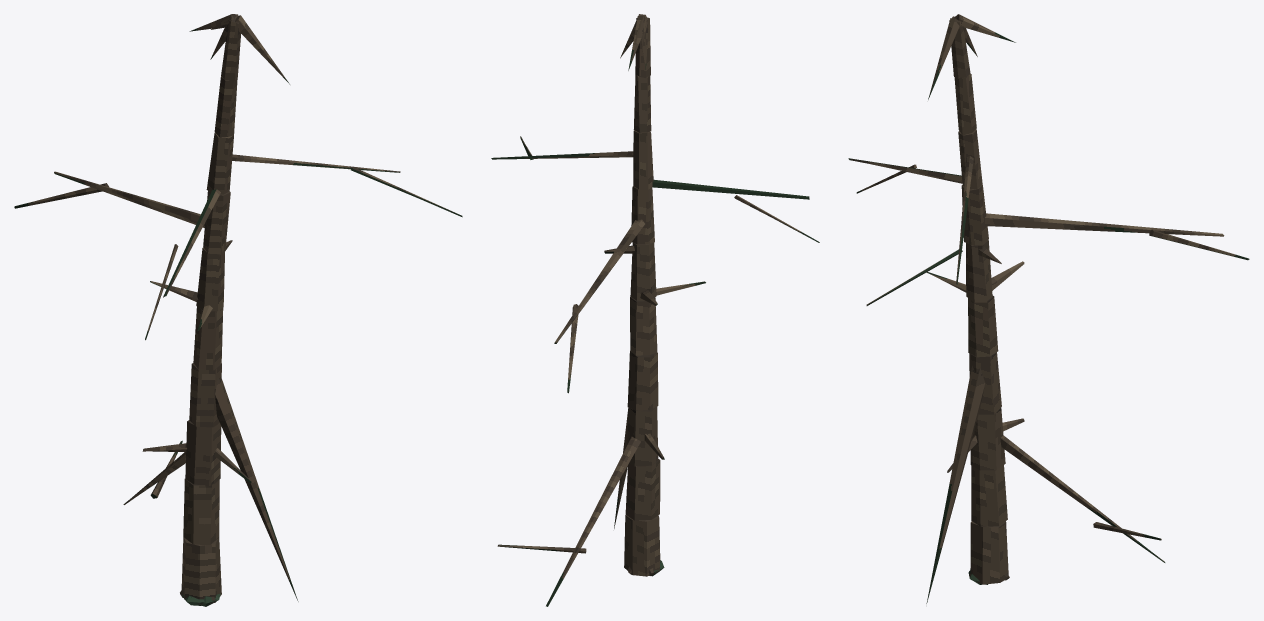
The model's file is snag_02.glb.
3 views of the same model, side by side, from view 1: azimuth 30°, elevation 25°; view 2: azimuth 150°, elevation 25°; view 3: azimuth 270°, elevation 25° (orthographic). The views are drawn at different scales.
Parts seen in each view (by area): view 1: snag_02; view 2: snag_02; view 3: snag_02.
Boxes of the visible parts, x1=… form: snag_02: x1=14, y1=14, x2=462, y2=606; snag_02: x1=491, y1=14, x2=819, y2=606; snag_02: x1=848, y1=14, x2=1249, y2=603.
Size of the model in its own units: 1.86 by 3.27 by 2.07.
2 materials, 2 textured.
